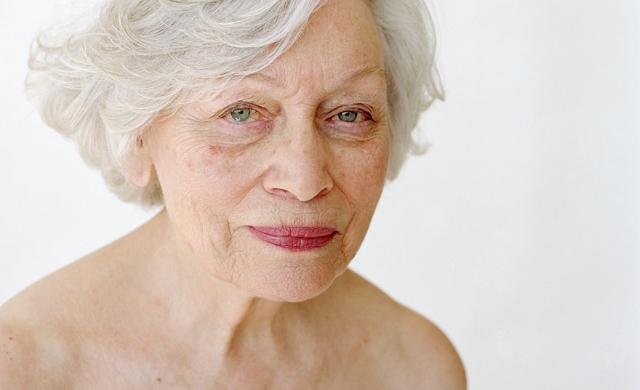crows_feet: (179, 113, 211, 139), (372, 109, 386, 143)
frown_line: (286, 79, 314, 113)
gummy_smile: (243, 168, 269, 204), (328, 172, 352, 206)
sad_smile: (337, 221, 353, 261), (223, 221, 237, 253)
smoker_lines: (280, 208, 320, 218)
